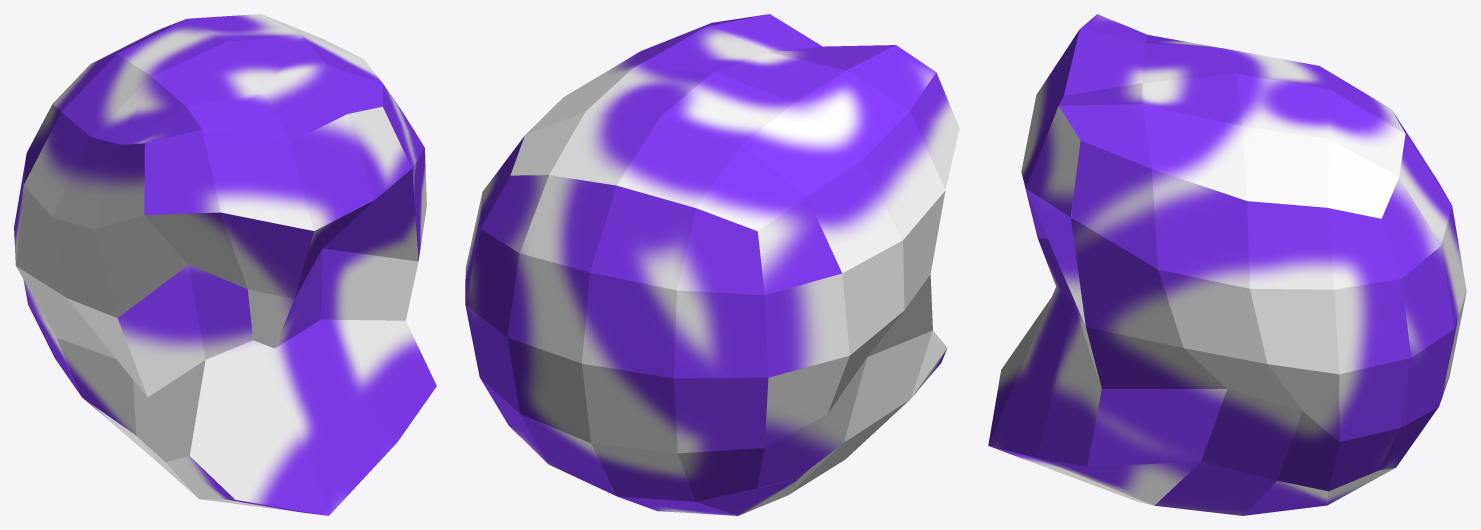
3 renders of one model, left to right at view 1: azimuth 30°, elevation 25°; view 2: azimuth 150°, elevation 25°; view 3: azimuth 270°, elevation 25°, orthographic.
Visible parts, largest first — view 1: Cube; view 2: Cube; view 3: Cube.
Boxes of the visible parts, <box> form: Cube: <box>14,14,436,515</box>; Cube: <box>465,14,959,515</box>; Cube: <box>988,14,1466,515</box>.
Bounding box in the file's own units: 8.03 × 8.56 × 8.73.
1 material, 1 textured.
